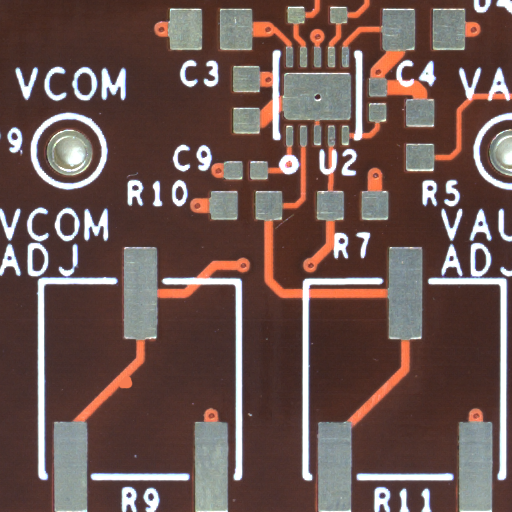Spur: (124, 383, 139, 394)
